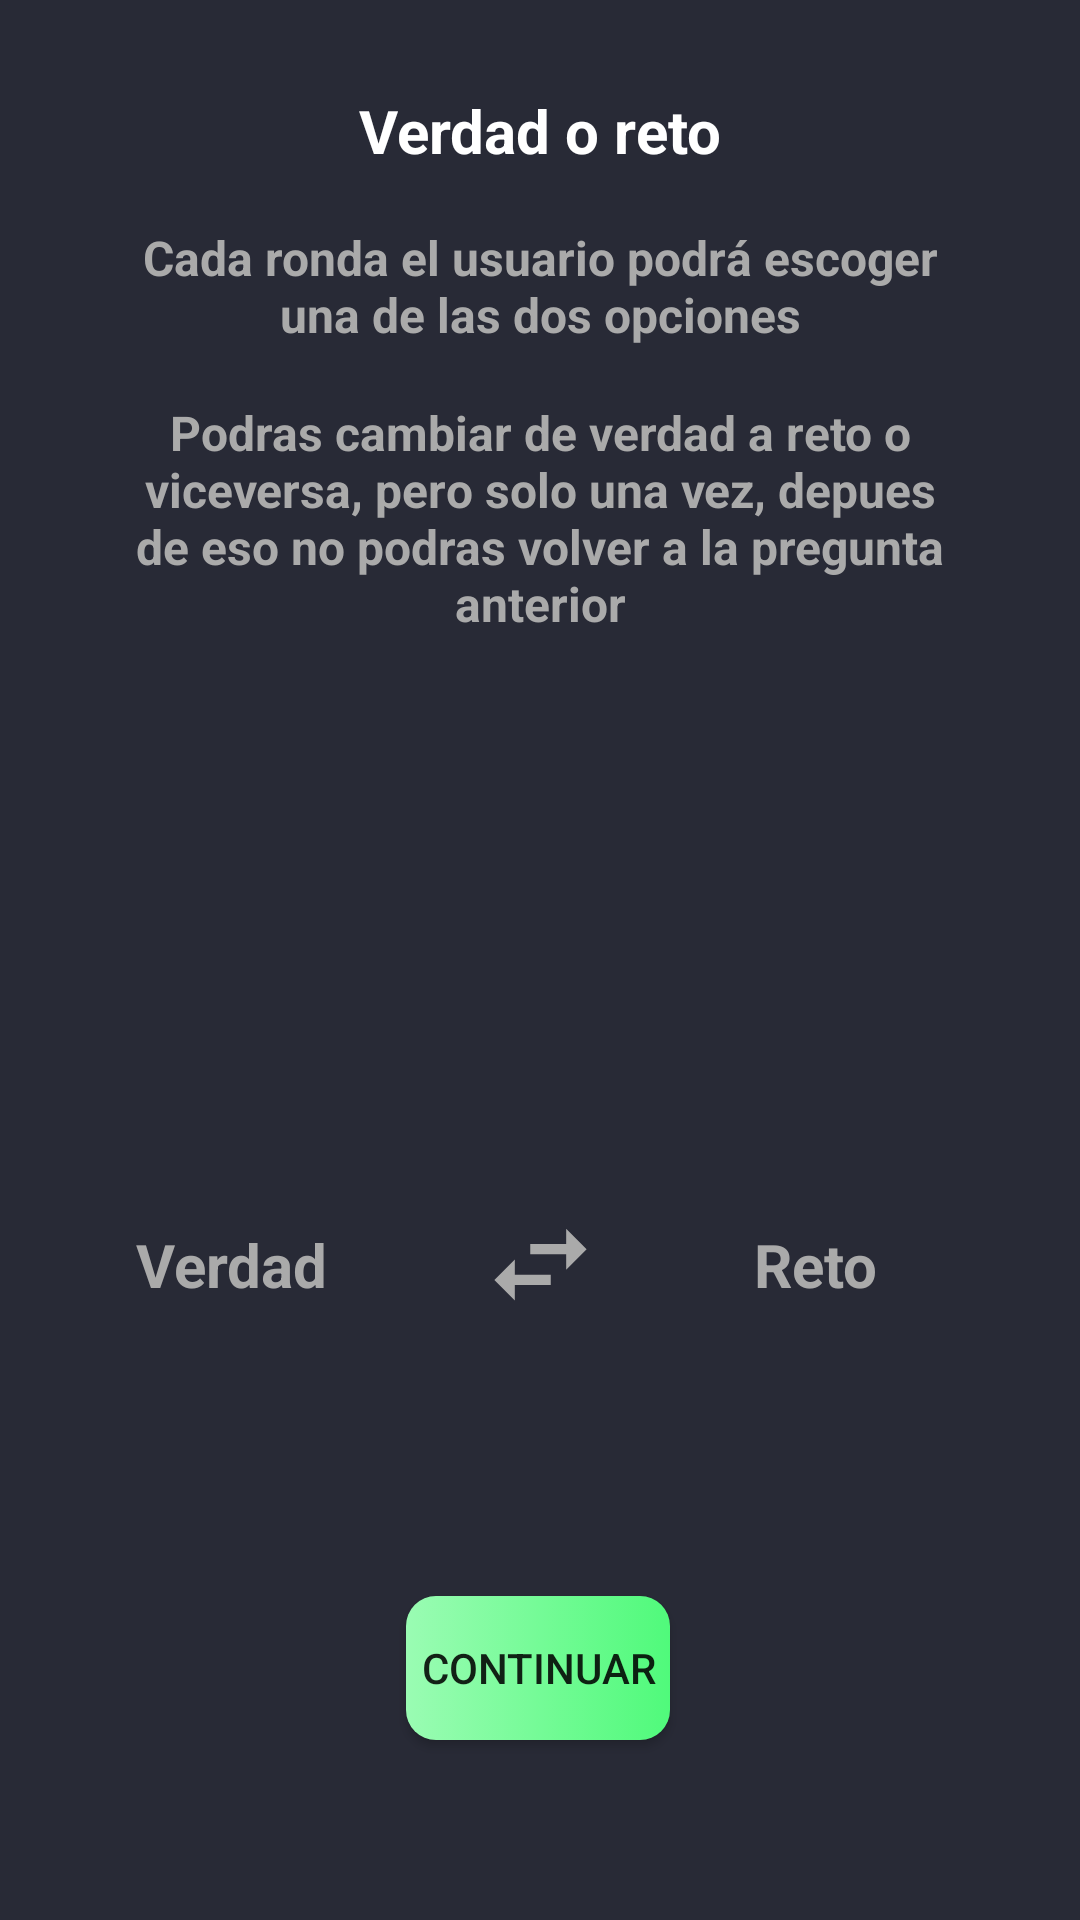

Icon bounding boxes for this 1080w x 1920h phone screenshot, format [x1=x1, y1=y1, x2=x2, y2=y2]:
swap horiz: [x1=494, y1=1229, x2=587, y2=1300]
